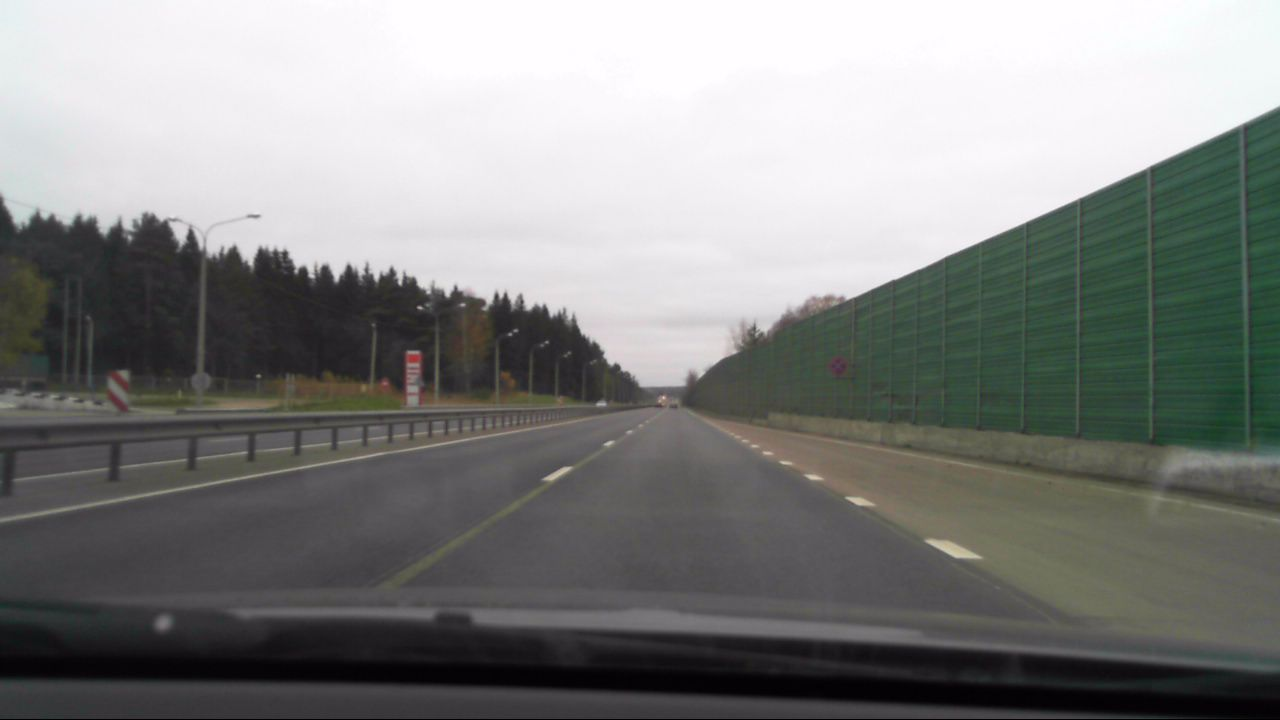No Parking: (828, 356, 849, 378)
